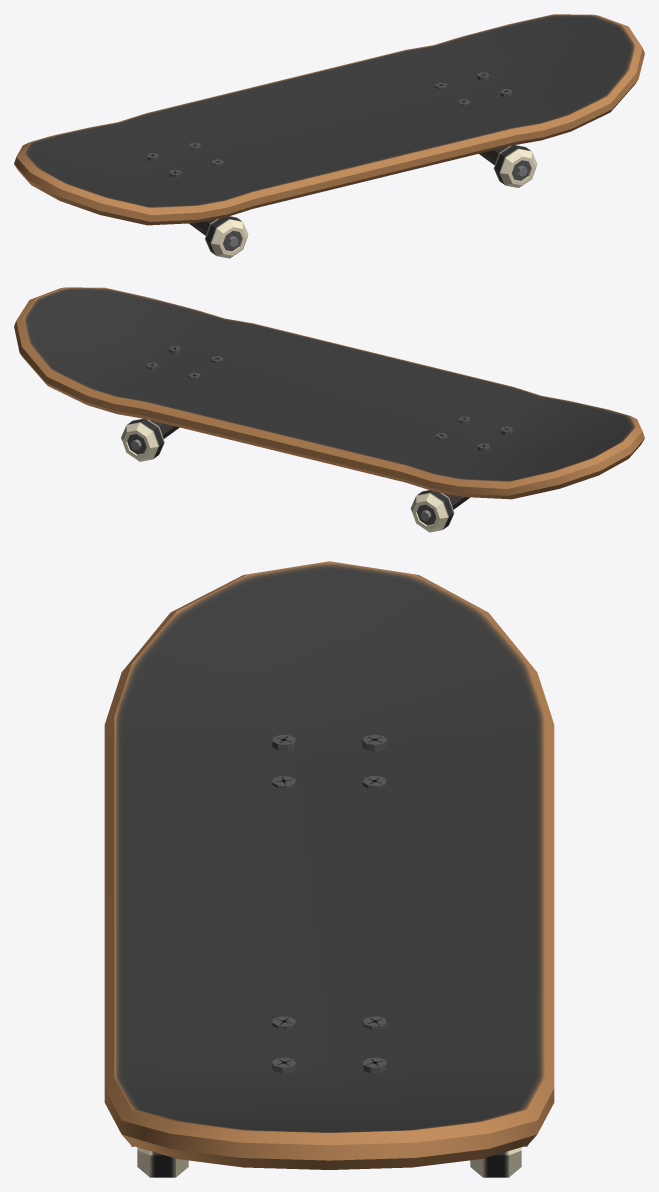
The model's file is skateboard.fbx.
3 views of the same model, one above another, from view 1: azimuth 30°, elevation 25°; view 2: azimuth 150°, elevation 25°; view 3: azimuth 270°, elevation 25° (orthographic). The views are drawn at different scales.
Parts seen in each view (by area): view 1: Skateboard_geo; view 2: Skateboard_geo; view 3: Skateboard_geo.
Boxes of the visible parts, <box> form: Skateboard_geo: <box>14,14,644,258</box>; Skateboard_geo: <box>14,287,644,532</box>; Skateboard_geo: <box>104,561,554,1177</box>.
Bounding box in the file's own units: 2.26 × 0.3362 × 0.7297.
1 material, 1 textured.
